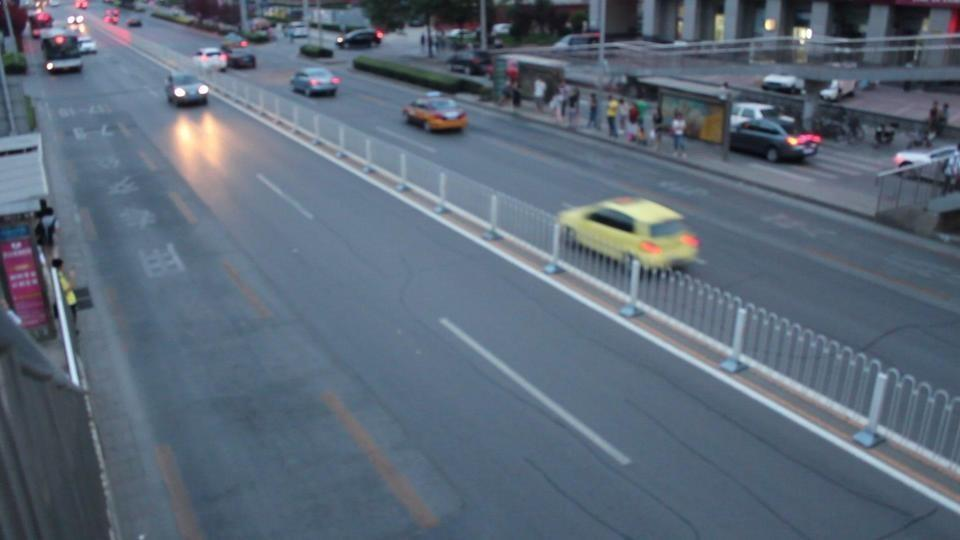car: (555, 195, 701, 272), (726, 116, 818, 164), (402, 93, 469, 133), (892, 144, 960, 182), (41, 29, 86, 75), (164, 71, 210, 107), (289, 67, 342, 98), (194, 46, 255, 71), (546, 32, 602, 54), (760, 72, 805, 97), (336, 27, 383, 49), (818, 78, 857, 101), (220, 31, 249, 50), (284, 23, 310, 41), (124, 15, 144, 28)
